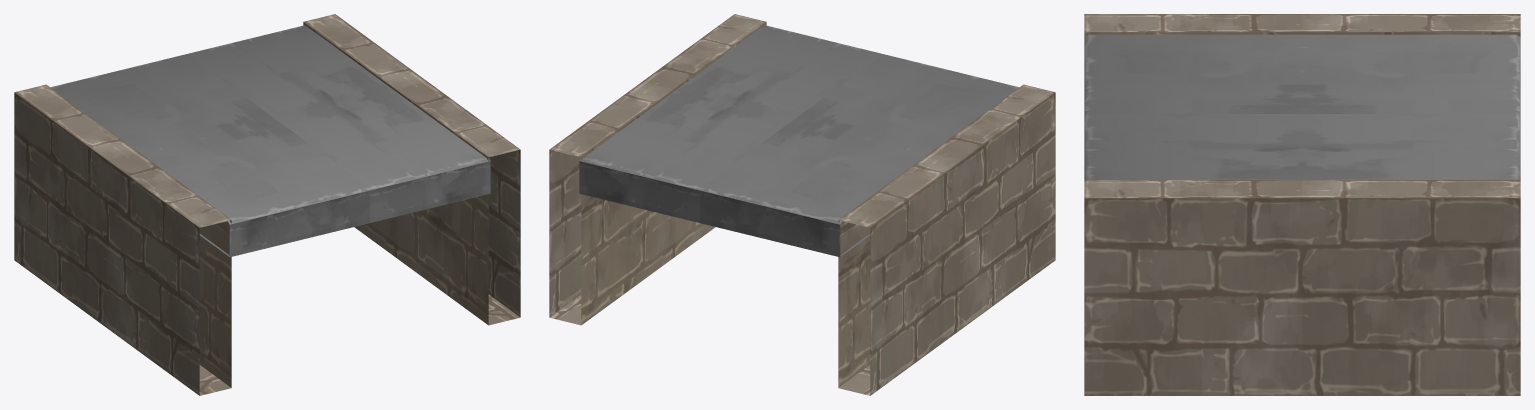
Rendered from Stairs_Exterior_Platform.gltf.
3 views of the same model, side by side, from view 1: azimuth 30°, elevation 25°; view 2: azimuth 150°, elevation 25°; view 3: azimuth 270°, elevation 25° (orthographic). The views are drawn at different scales.
Visible parts, largest first — view 1: Stairs_Exterior_Platform; view 2: Stairs_Exterior_Platform; view 3: Stairs_Exterior_Platform.
Boxes of the visible parts, left/top/right/bottom form: Stairs_Exterior_Platform: left=14, top=14, right=520, bottom=395; Stairs_Exterior_Platform: left=549, top=14, right=1055, bottom=395; Stairs_Exterior_Platform: left=1084, top=14, right=1520, bottom=395.
Bounding box in the file's own units: 2 × 1 × 2.
2 materials, 2 textured.
